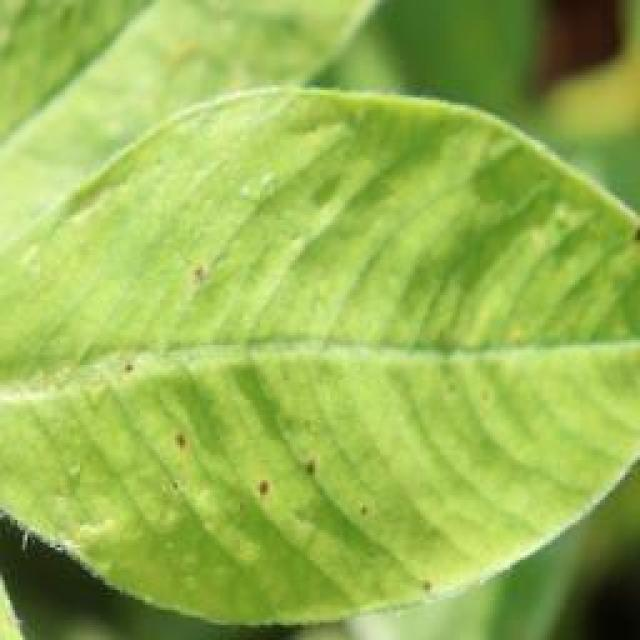Sigatoka: (246, 462, 290, 517), (118, 337, 157, 398), (189, 252, 230, 306), (287, 461, 339, 500), (336, 485, 384, 527), (163, 415, 206, 460), (420, 573, 448, 601)
